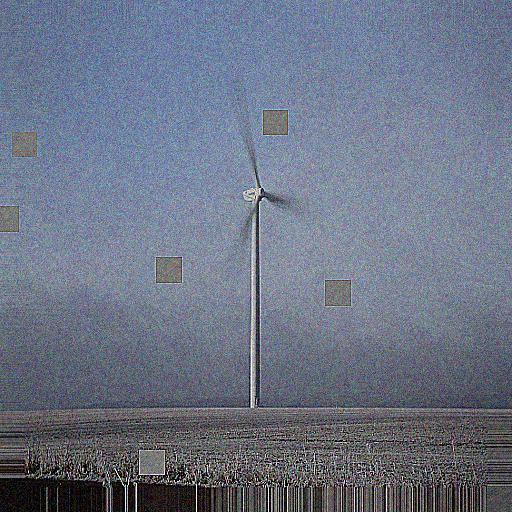wind turbine: (221, 83, 302, 409)
